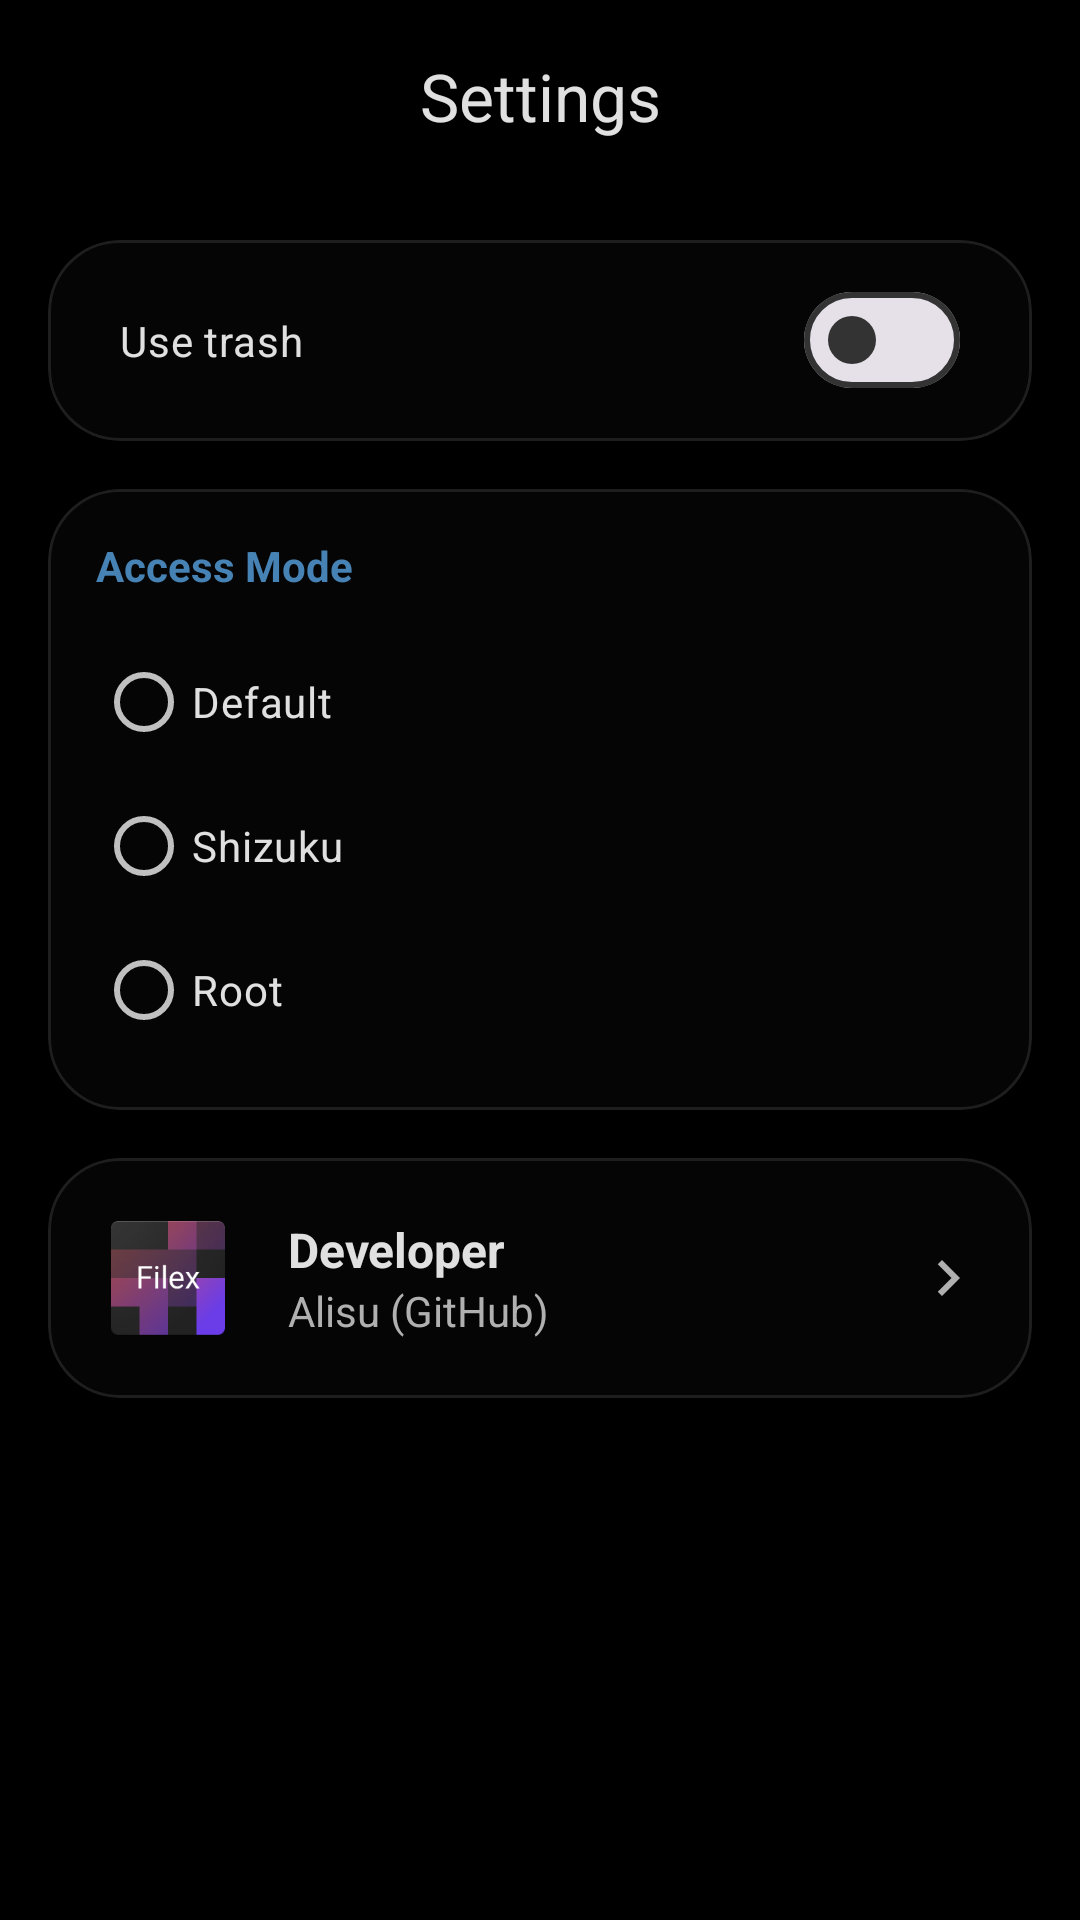

Where icons sit on this 1080 × 1920 app screen, as {"left": x1, "top": y1, "right": x2, "bottom": y2}:
next: {"left": 938, "top": 1260, "right": 960, "bottom": 1296}
